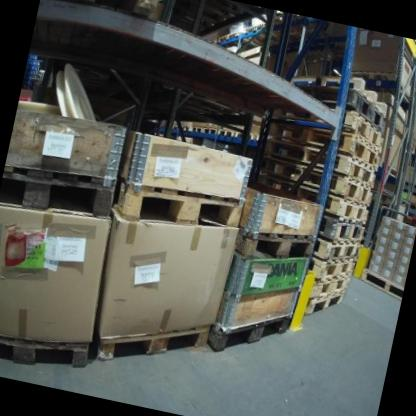pallet: (114, 167, 248, 246), (92, 299, 214, 384), (0, 152, 122, 232), (207, 293, 297, 370), (0, 314, 93, 379), (262, 139, 382, 188), (271, 120, 385, 170), (263, 158, 375, 205), (232, 222, 313, 272), (41, 0, 172, 27), (337, 109, 389, 151), (344, 90, 393, 129), (358, 265, 407, 302), (311, 234, 360, 266), (322, 194, 369, 226), (316, 216, 364, 246), (305, 287, 345, 322), (309, 253, 356, 282), (311, 271, 350, 298), (242, 18, 271, 38), (234, 130, 260, 145), (216, 126, 236, 142), (224, 29, 241, 47), (201, 125, 218, 139), (177, 123, 192, 136), (190, 125, 203, 137), (216, 33, 226, 48)
